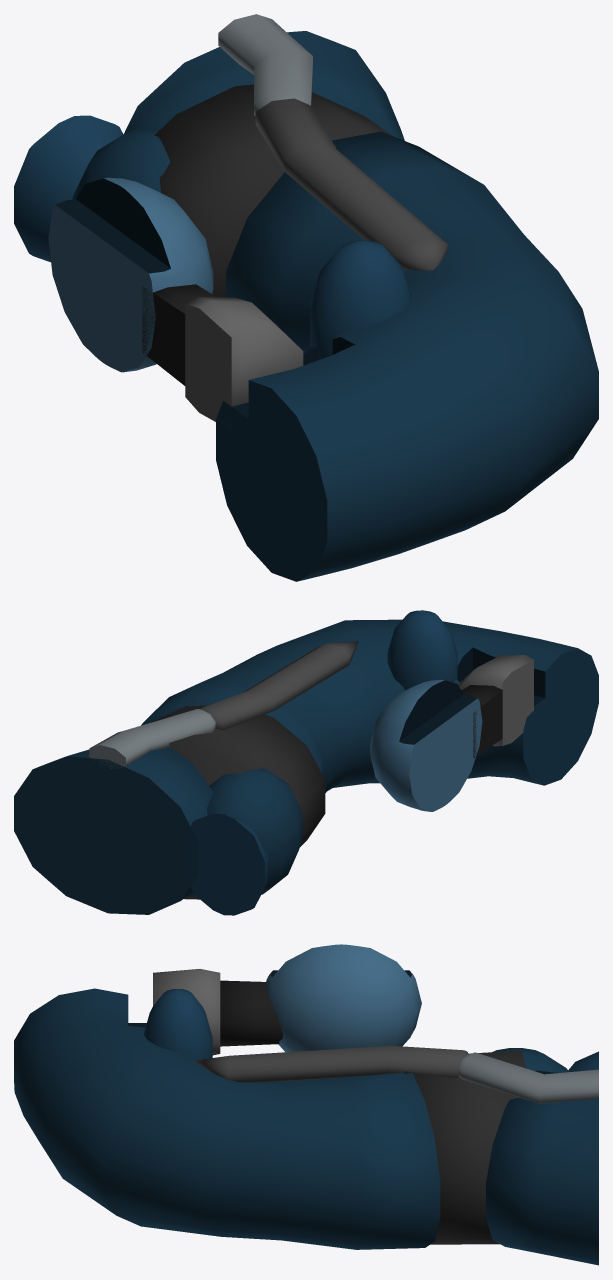
Rendered from newsh-caret-56.glb.
3 renders of one model, top to bottom at view 1: azimuth 30°, elevation 25°; view 2: azimuth 150°, elevation 25°; view 3: azimuth 270°, elevation 25°, orthographic. The views are drawn at different scales.
Visible parts, largest first — view 1: newsh-caret-56; view 2: newsh-caret-56; view 3: newsh-caret-56.
Boxes of the visible parts, x1=… form: newsh-caret-56: x1=14, y1=14, x2=598, y2=581; newsh-caret-56: x1=14, y1=610, x2=598, y2=915; newsh-caret-56: x1=14, y1=944, x2=598, y2=1265.
Bounding box in the file's own units: 1.43 × 0.8284 × 2.18.
